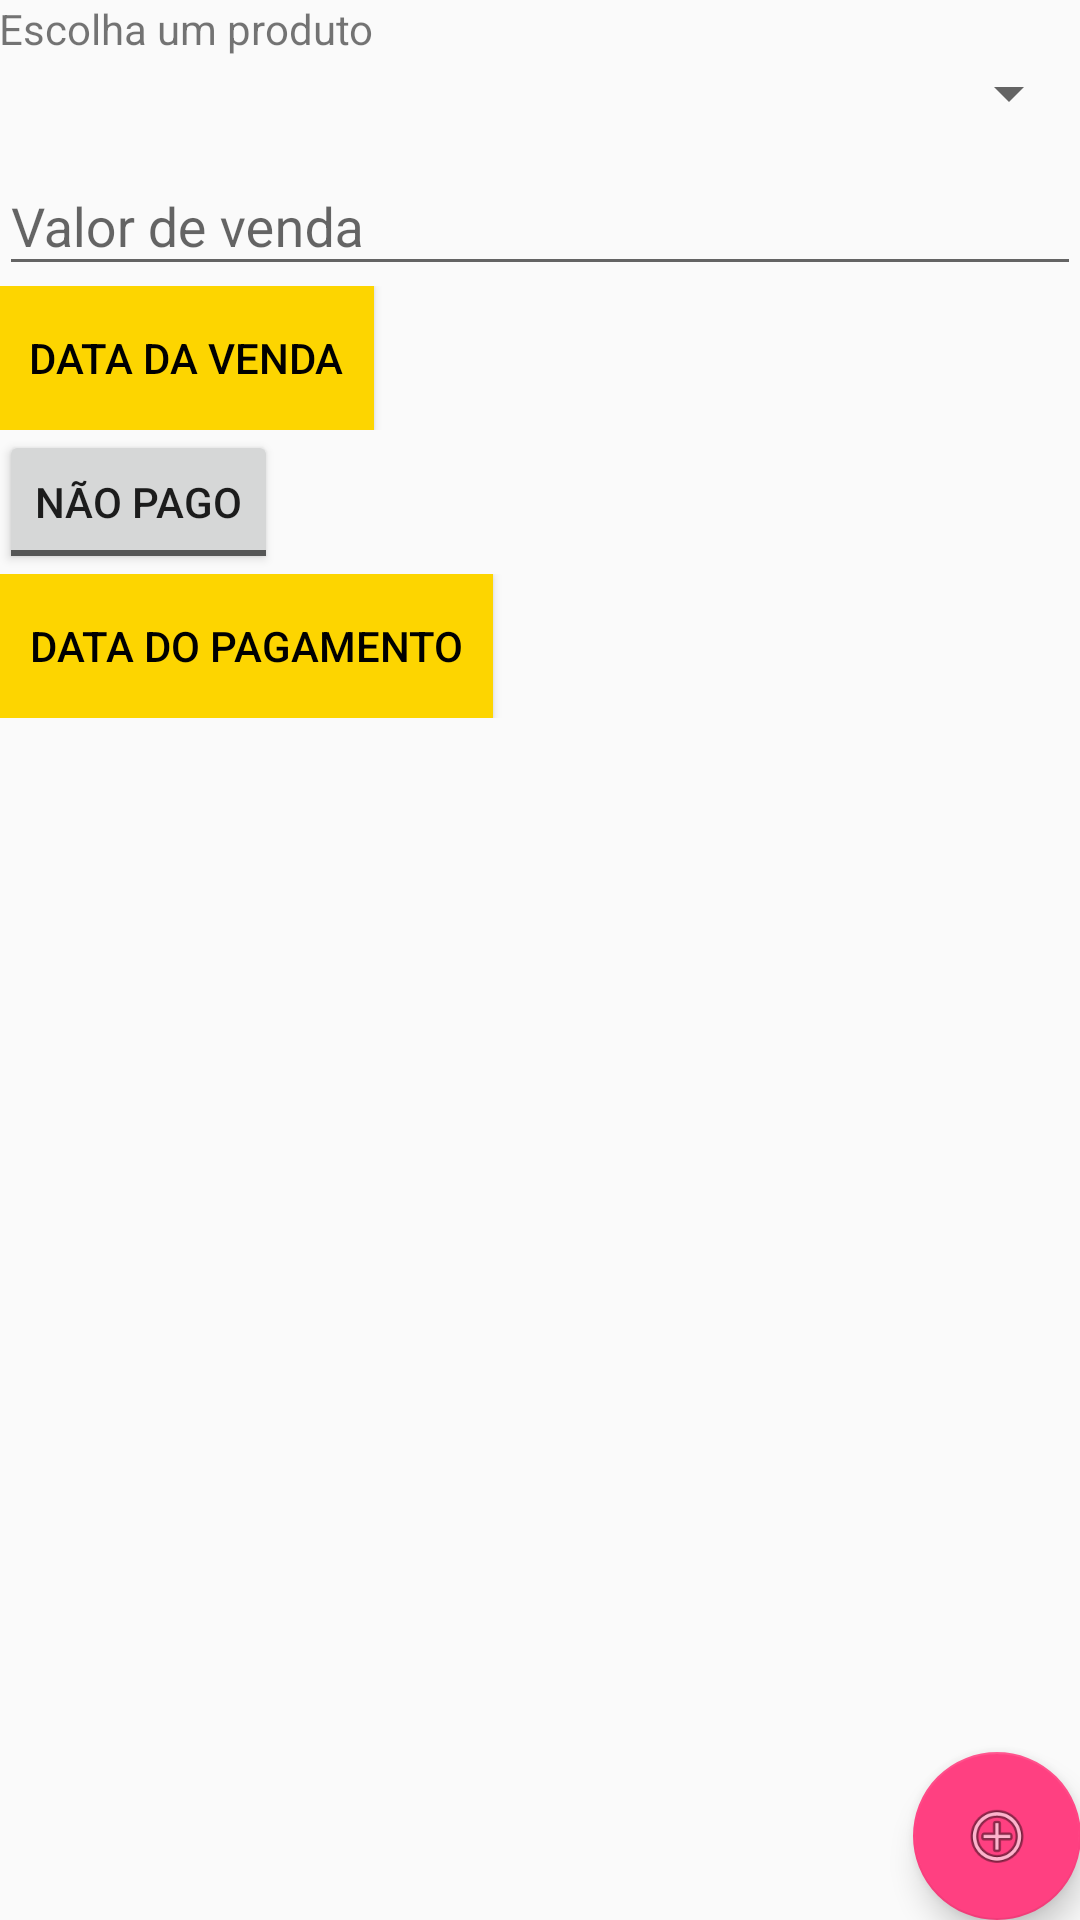

Named icons in this screenshot (1080px x 1920px) and their centers, (x,y):
add: (996,1836)
